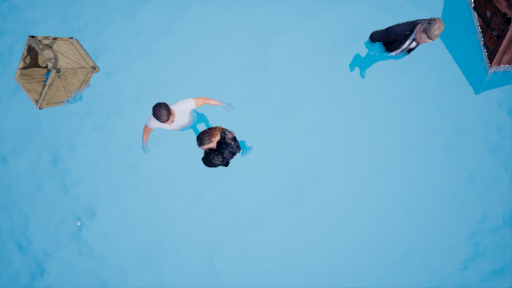person: (141, 87, 247, 172), (343, 11, 443, 85)
